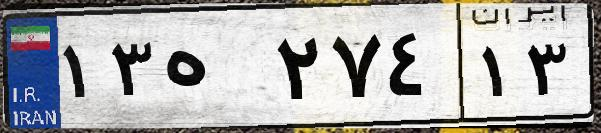1: (57, 26, 110, 100), (475, 38, 525, 113)
2: (270, 28, 330, 110)
3: (525, 38, 570, 115), (110, 28, 158, 98)
4: (385, 28, 445, 110)
7: (330, 28, 385, 110)
ه: (158, 20, 270, 120)
